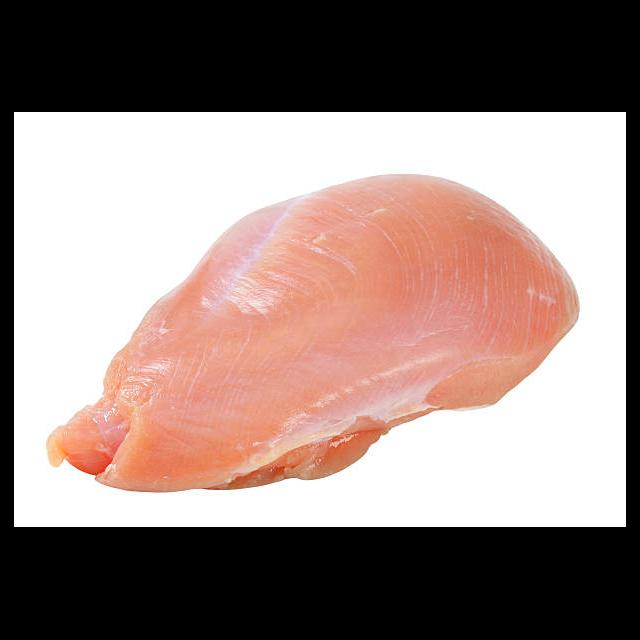chicken: (40, 176, 580, 494)
